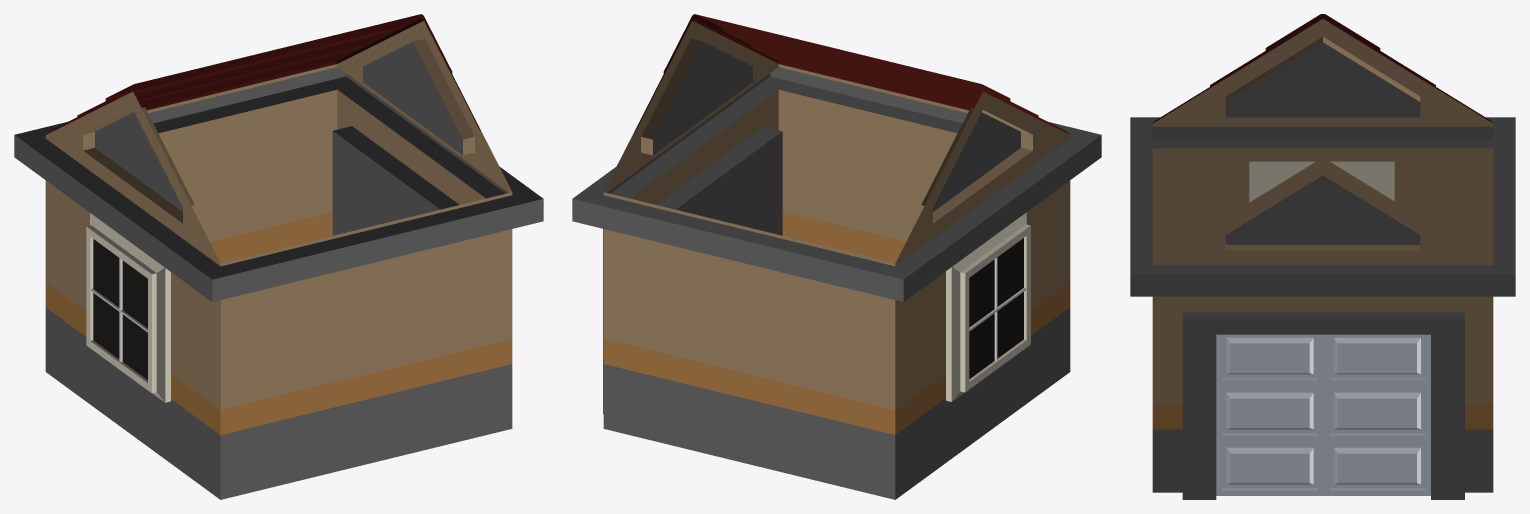
Rendered from House 9.fbx.
3 views of the same model, side by side, from view 1: azimuth 30°, elevation 25°; view 2: azimuth 150°, elevation 25°; view 3: azimuth 270°, elevation 25° (orthographic). The views are drawn at different scales.
Visible parts, largest first — view 1: House 9; view 2: House 9; view 3: House 9.
Part boxes in pixels (<box>): House 9: <box>14,14,543,499</box>; House 9: <box>572,14,1101,499</box>; House 9: <box>1130,14,1515,499</box>.
Size of the model in its own units: 3.98 by 3.89 by 3.85.
